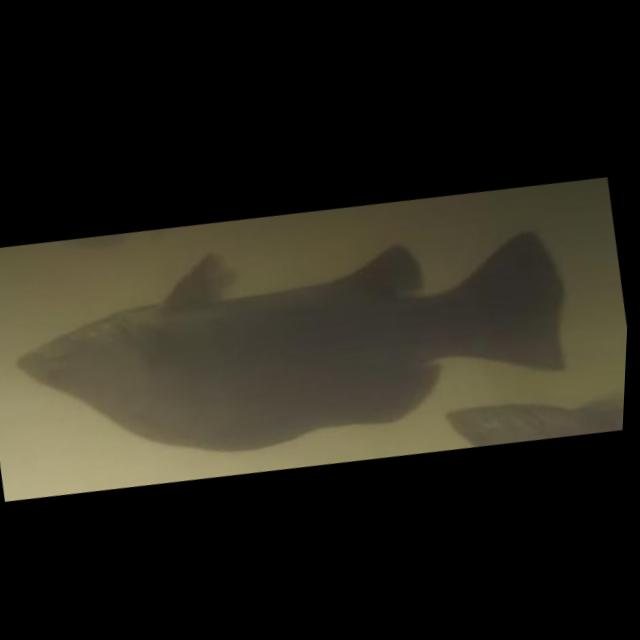Seabass: (0, 177, 590, 512)
